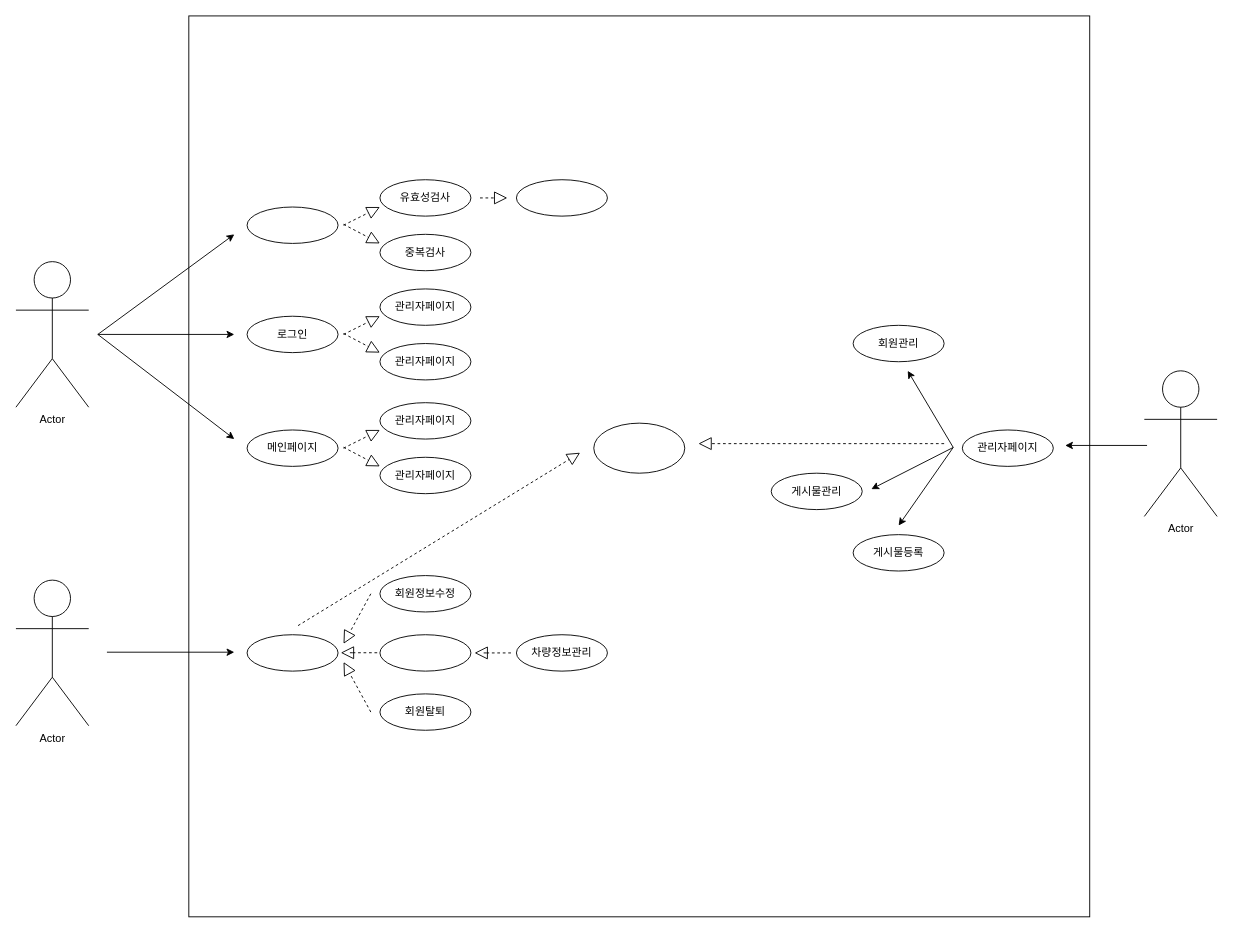
The diagram is 1233 pixels wide and 933 high, and some of its shapes have lost their labels. The shapes that lost their labels are listed below. From the top down, each one's centre as x and y in pixels, then its label:
At (561,197): "PW암호화".
At (292,224): "회원가입".
At (639,447): "사용자인증".
At (292,652): "마이페이지".
At (425,652): "차량관리".
